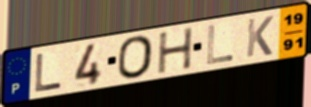4: (72, 41, 104, 86)
H: (157, 25, 196, 76)
K: (245, 14, 276, 59)
L: (34, 51, 64, 93), (206, 24, 235, 67)
O: (117, 34, 155, 80)
